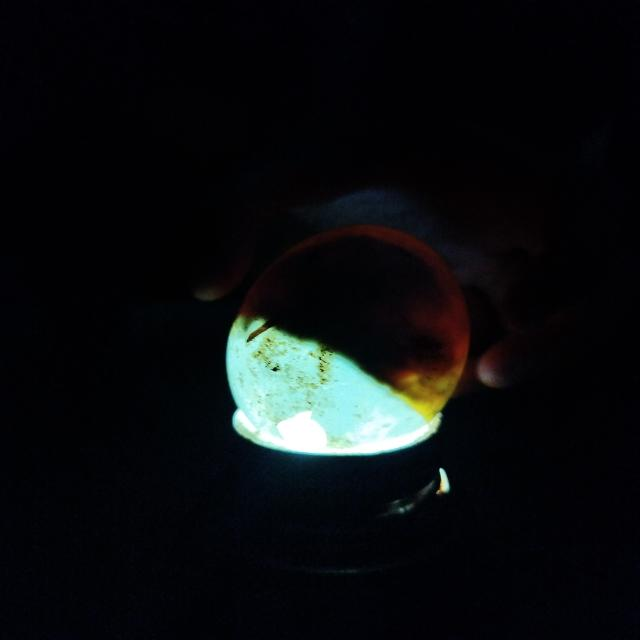Area Infectada: (247, 235, 457, 397)
